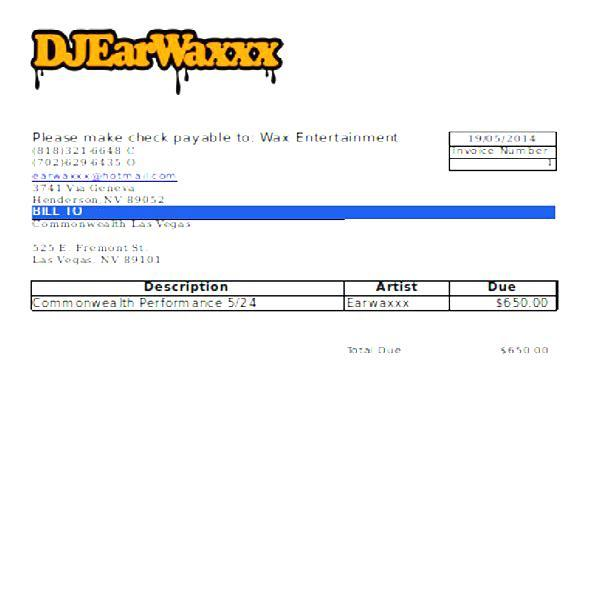test: (31, 30, 282, 93)
